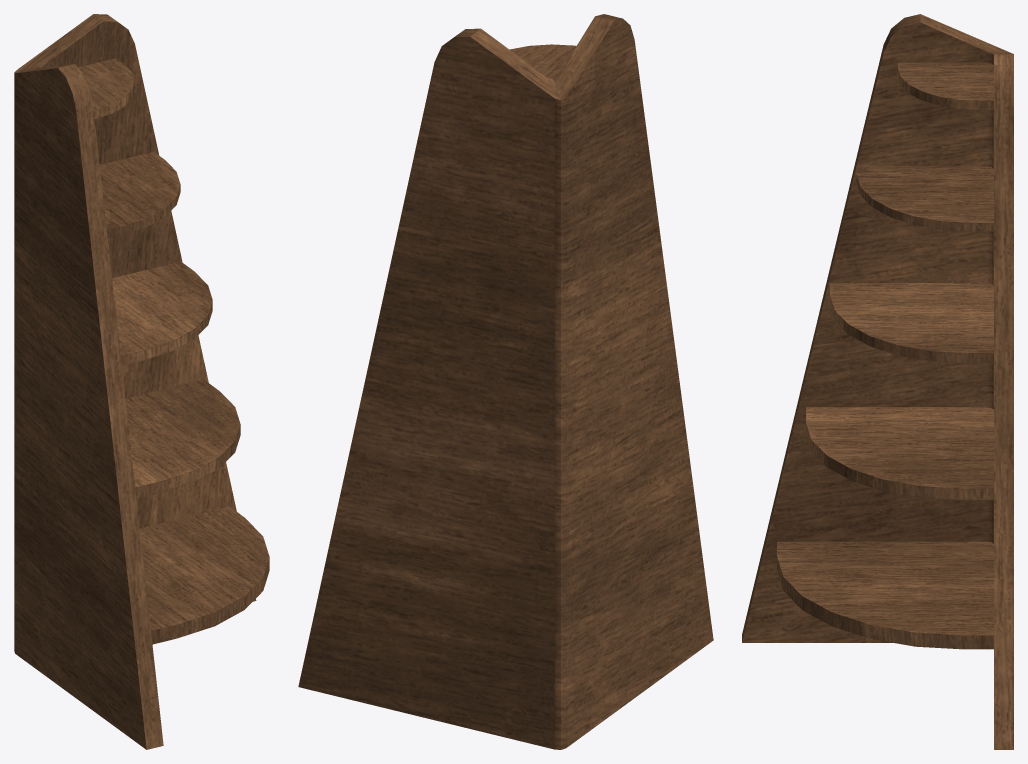
File: modern_wooden_corner_shelf_unit.glb
3 views of the same model, side by side, from view 1: azimuth 30°, elevation 25°; view 2: azimuth 150°, elevation 25°; view 3: azimuth 270°, elevation 25° (orthographic). The views are drawn at different scales.
Parts seen in each view (by area): view 1: polySurface1; view 2: polySurface1; view 3: polySurface1.
Part boxes in pixels (x1=…): polySurface1: x1=14, y1=14, x2=269, y2=749; polySurface1: x1=298, y1=14, x2=713, y2=749; polySurface1: x1=742, y1=14, x2=1013, y2=749.
Size of the model in its own units: 0.7836 by 1.97 by 0.7805.
Materials: 1 (1 with a texture image).
